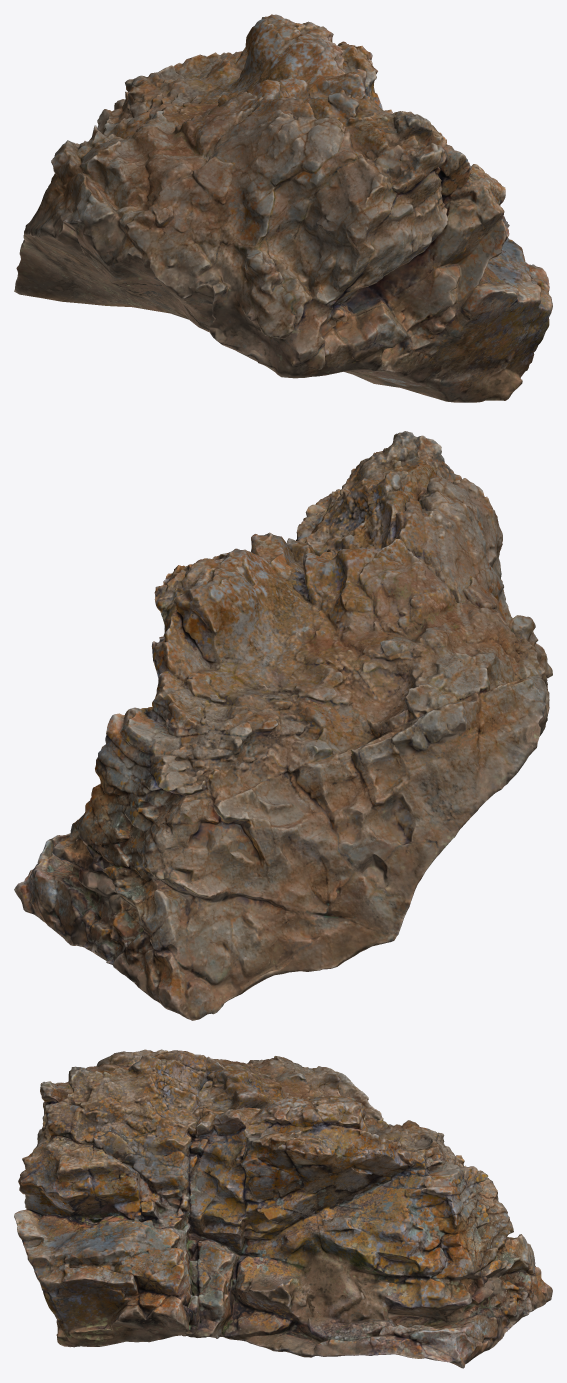
Rendered from boulder_01_4k.obj.
3 views of the same model, one above another, from view 1: azimuth 30°, elevation 25°; view 2: azimuth 150°, elevation 25°; view 3: azimuth 270°, elevation 25° (orthographic). The views are drawn at different scales.
Parts seen in each view (by area): view 1: boulder_01_LOD0; view 2: boulder_01_LOD0; view 3: boulder_01_LOD0.
Part boxes in pixels (<box>): boulder_01_LOD0: <box>14,14,552,402</box>; boulder_01_LOD0: <box>14,431,552,1020</box>; boulder_01_LOD0: <box>14,1049,552,1368</box>.
Size of the model in its own units: 1.27 by 1 by 1.83.
